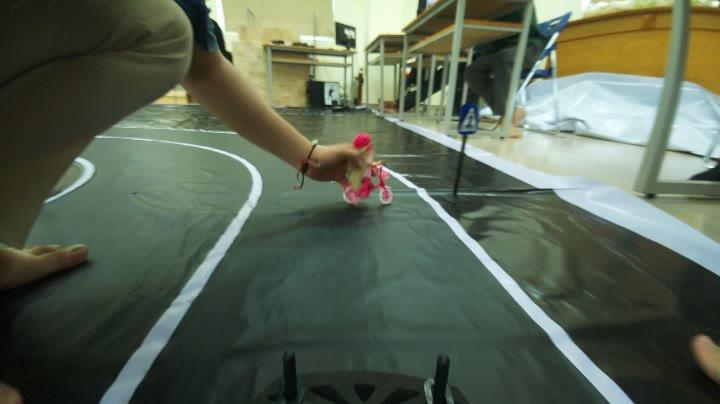crosswalk: (454, 102, 485, 140)
pedestrian: (342, 130, 393, 210)
